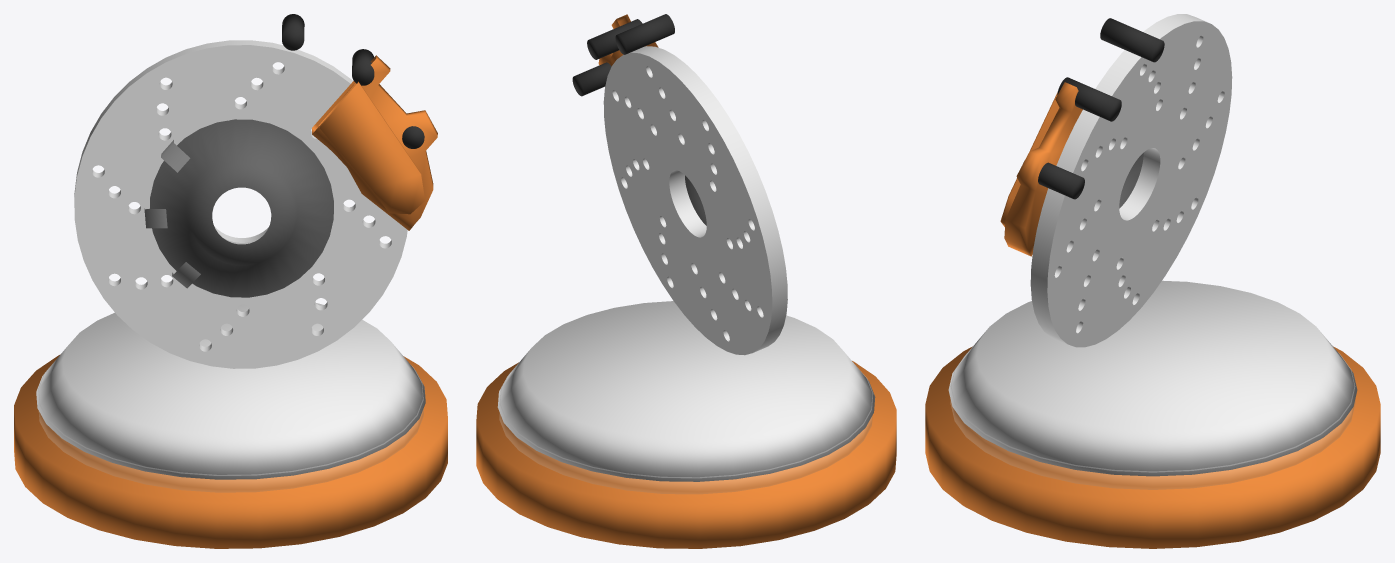
3 renders of one model, left to right at view 1: azimuth 30°, elevation 25°; view 2: azimuth 150°, elevation 25°; view 3: azimuth 270°, elevation 25°, orthographic. The views are drawn at different scales.
Visible parts, largest first — view 1: Cylinder.027, Cylinder.025, Disc Barake, Circle, Cube.023, Cylinder.026, Cube.022, Cylinder.031, Cylinder.029; view 2: Cylinder.025, Cylinder.027, Disc Barake, Cylinder.026, Cylinder.031, Cylinder.029, Cylinder.030; view 3: Cylinder.025, Cylinder.027, Disc Barake, Cylinder.026, Cube.022, Cylinder.031, Cylinder.029, Cylinder.030, Cube.023.
Part boxes in pixels (box(x1,y1,x2,y2)): Cylinder.027: box(74, 40, 407, 368); Cylinder.025: box(36, 303, 425, 479); Disc Barake: box(14, 354, 447, 548); Circle: box(149, 119, 333, 297); Cube.023: box(318, 81, 425, 214); Cylinder.026: box(38, 366, 423, 492); Cube.022: box(312, 55, 437, 230); Cylinder.031: box(282, 14, 304, 50); Cylinder.029: box(352, 49, 374, 85); Cylinder.025: box(497, 301, 875, 481); Cylinder.027: box(603, 46, 787, 355); Disc Barake: box(476, 361, 896, 548); Cylinder.026: box(500, 372, 872, 493); Cylinder.031: box(615, 14, 674, 54); Cylinder.029: box(587, 19, 642, 59); Cylinder.030: box(572, 62, 611, 96); Cylinder.025: box(948, 280, 1357, 476); Cylinder.027: box(1030, 14, 1232, 347); Disc Barake: box(925, 346, 1380, 548); Cylinder.026: box(951, 353, 1354, 489); Cube.022: box(1004, 82, 1082, 256); Cylinder.031: box(1100, 18, 1164, 62); Cylinder.029: box(1057, 77, 1121, 121); Cylinder.030: box(1023, 162, 1084, 199); Cube.023: box(1000, 92, 1059, 226).
Size of the model in its own units: 4.18 by 4.6 by 4.18.
